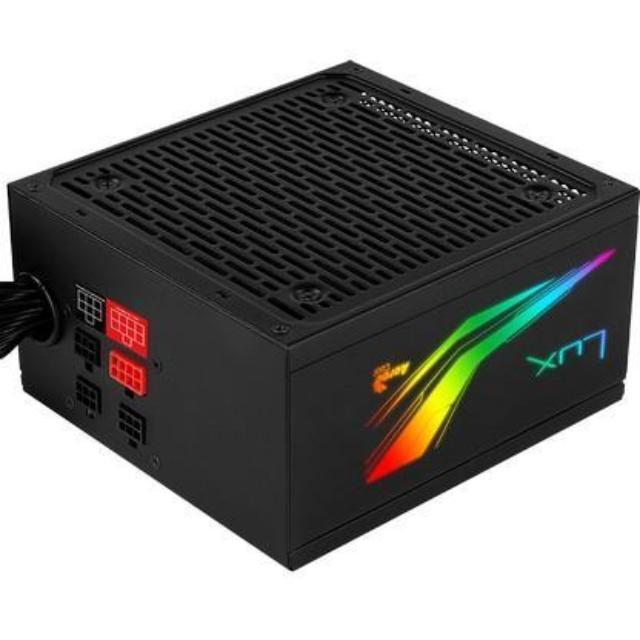PSU: (0, 46, 634, 578)
